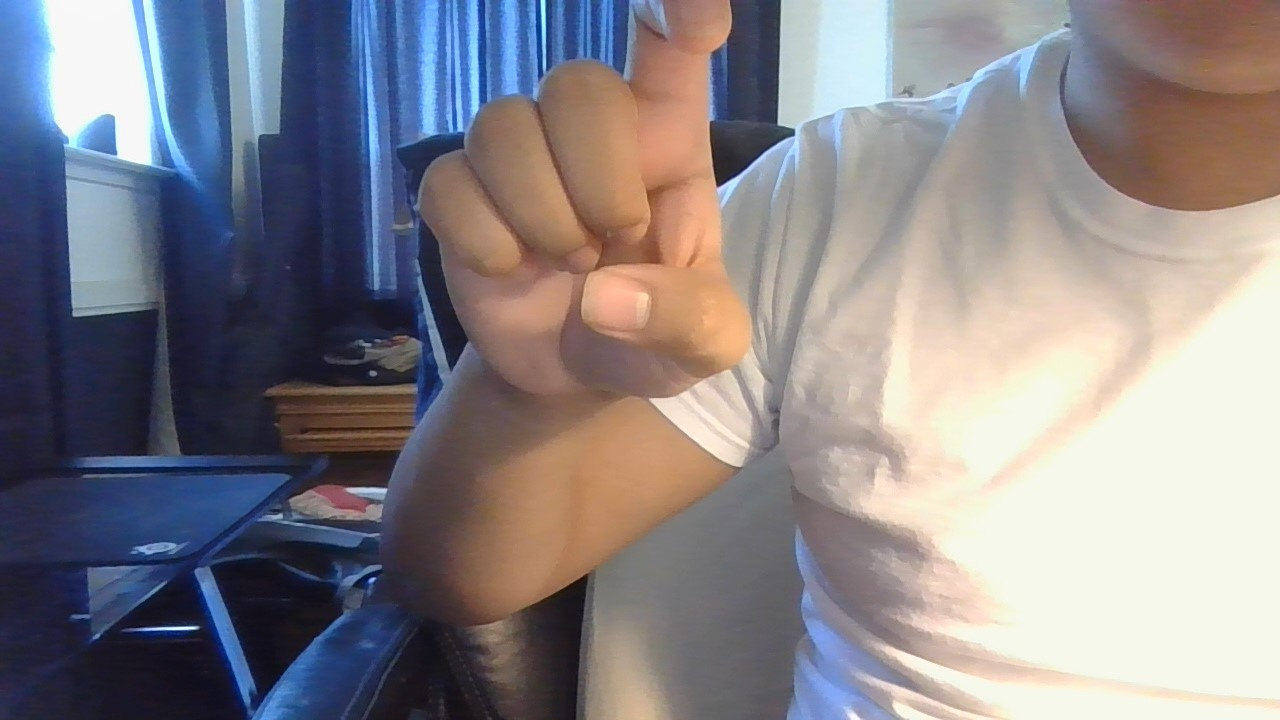x: (371, 1, 812, 425)
